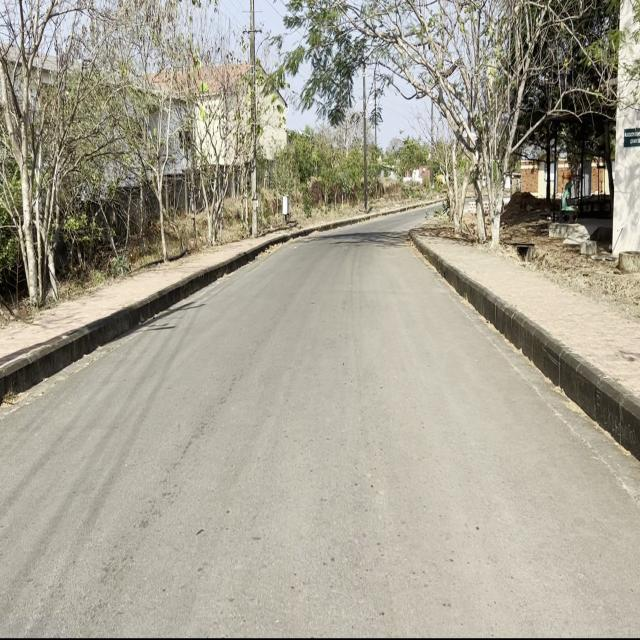Road: (2, 220, 637, 629)
